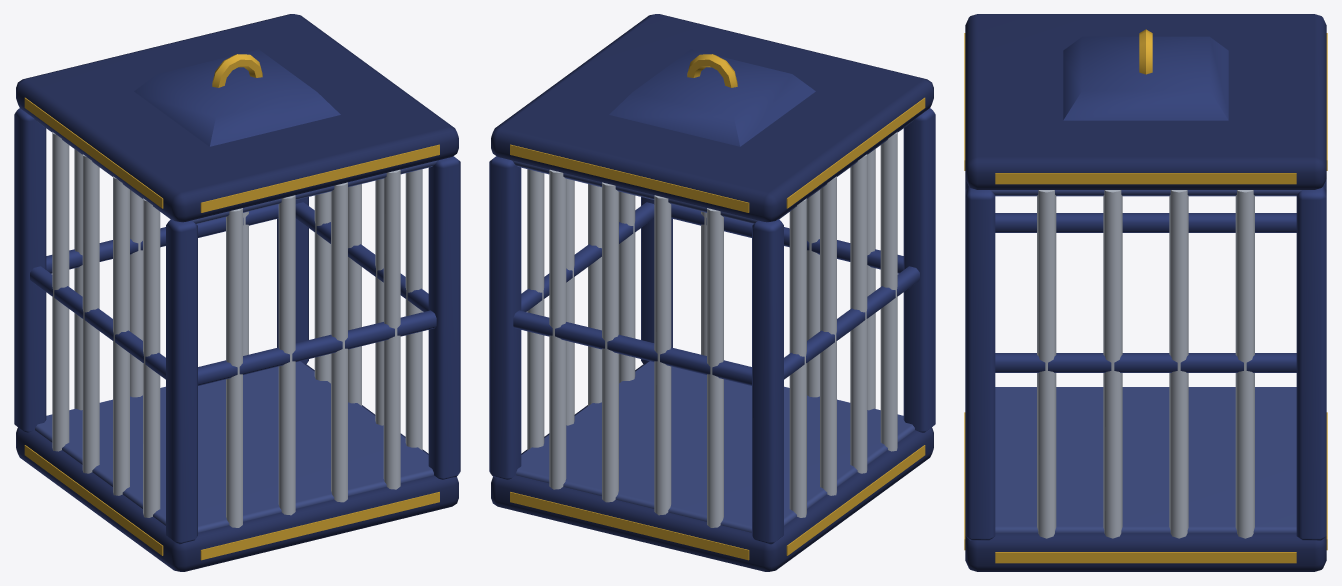
The model's file is cage.glb.
3 views of the same model, side by side, from view 1: azimuth 30°, elevation 25°; view 2: azimuth 150°, elevation 25°; view 3: azimuth 270°, elevation 25° (orthographic). The views are drawn at different scales.
Parts seen in each view (by area): view 1: cage; view 2: cage; view 3: cage.
Part boxes in pixels (box(x1,y1,x2,y2)): cage: box(14, 14, 460, 571); cage: box(489, 14, 935, 571); cage: box(964, 14, 1327, 571).
Bounding box in the file's own units: 1.21 × 1.72 × 1.21.
